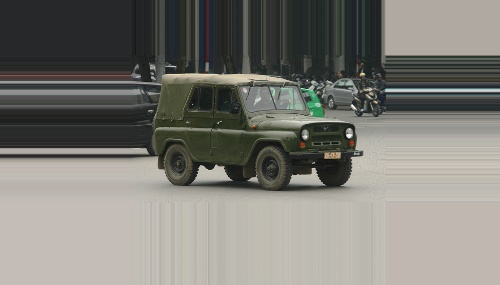plate: (322, 150, 343, 159)
